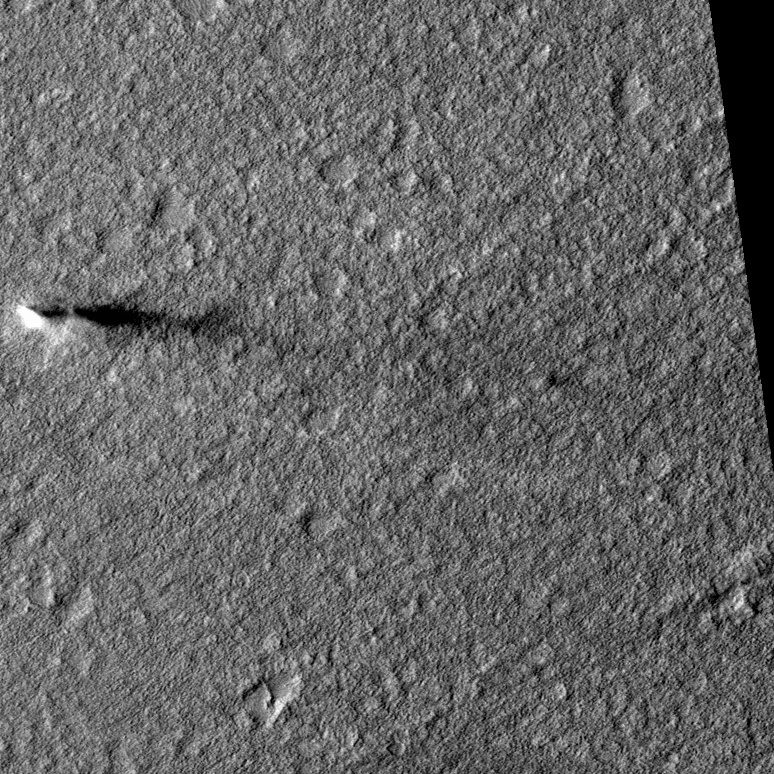dust_devil: (12, 294, 247, 348)
